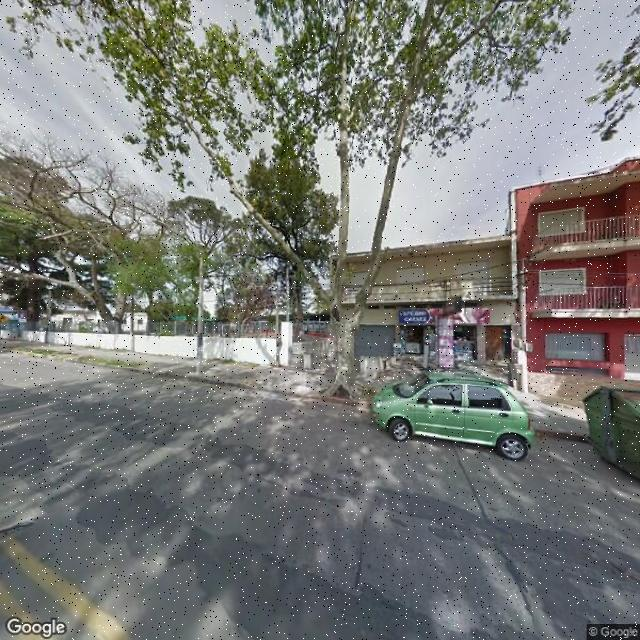garbage container: (575, 378, 640, 497)
